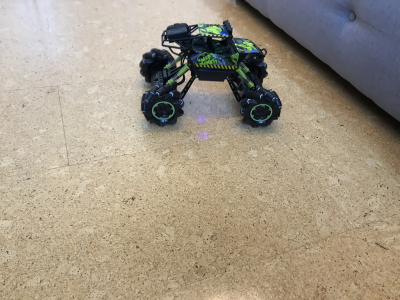remote control car: (133, 18, 284, 130)
